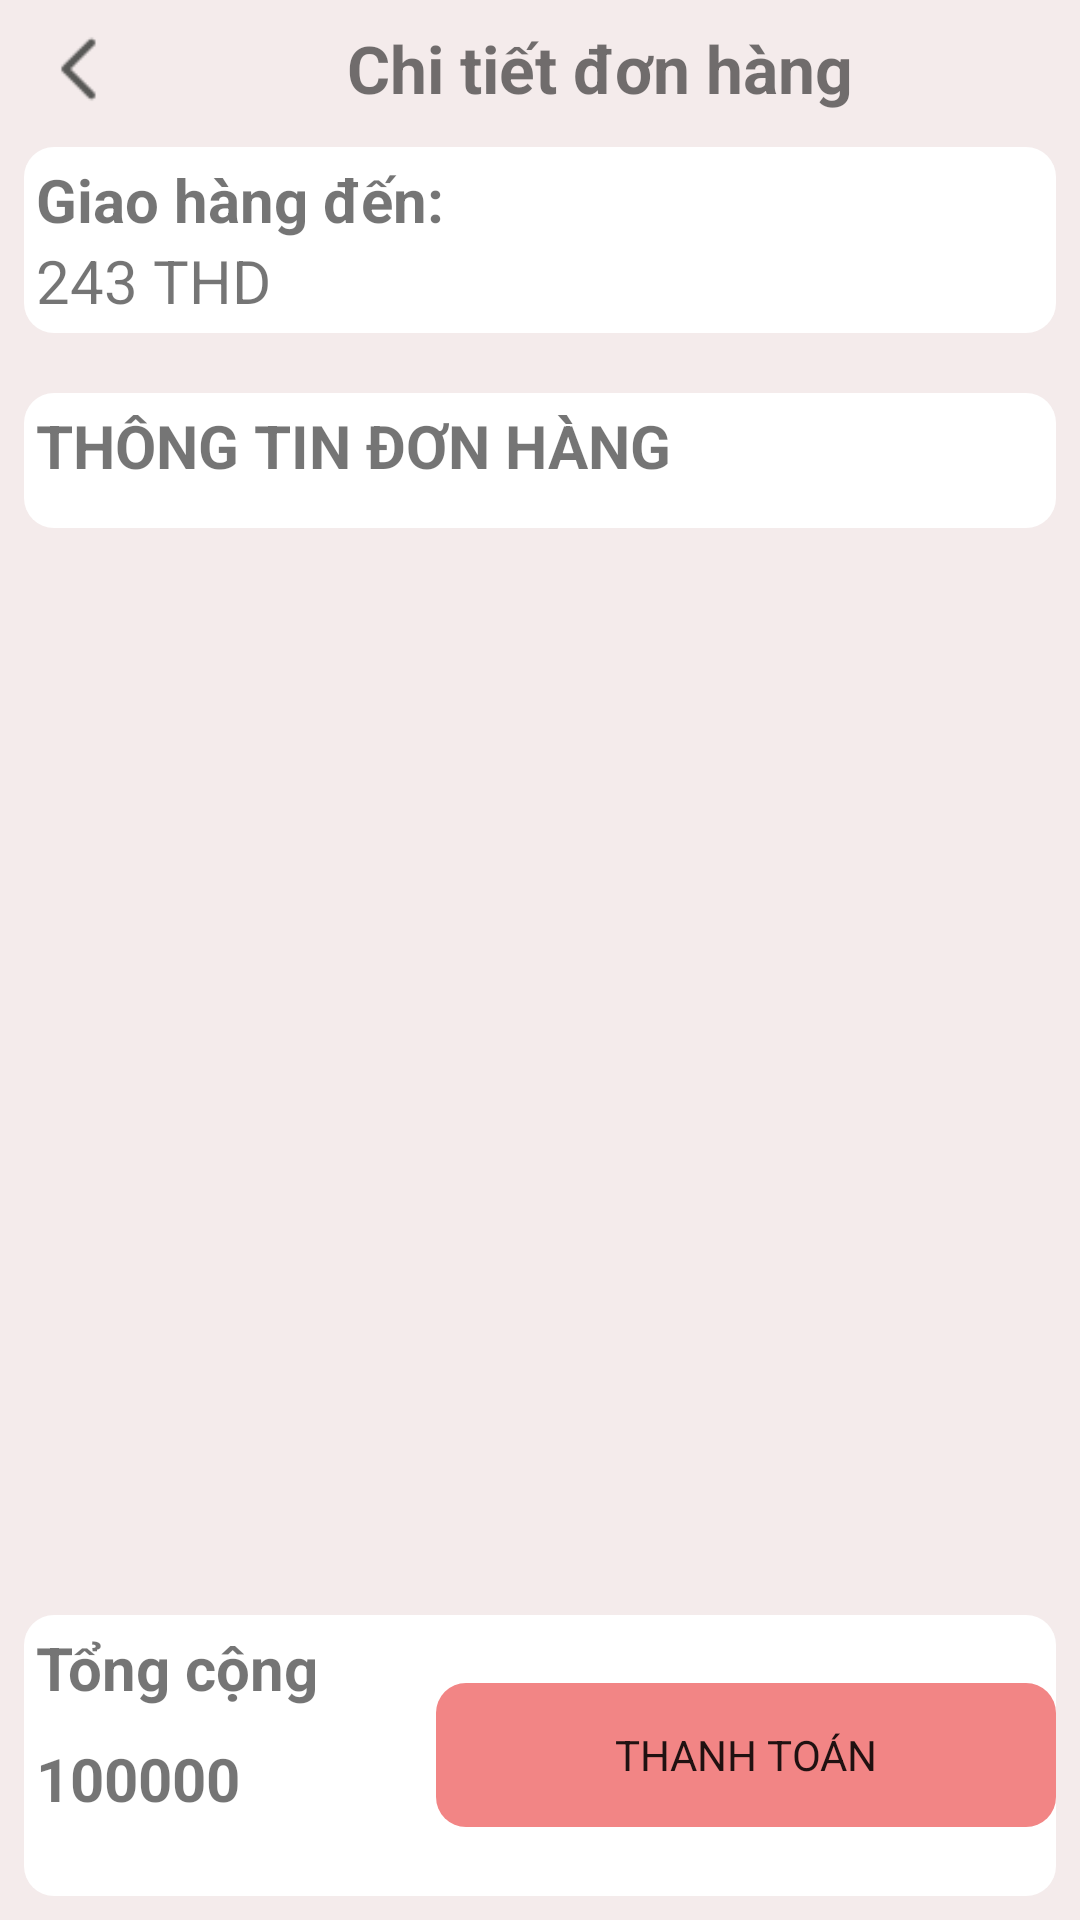

Where to tap for icons on this 1080 × 1920 app screen, as (x,y):
back: (78,69)
